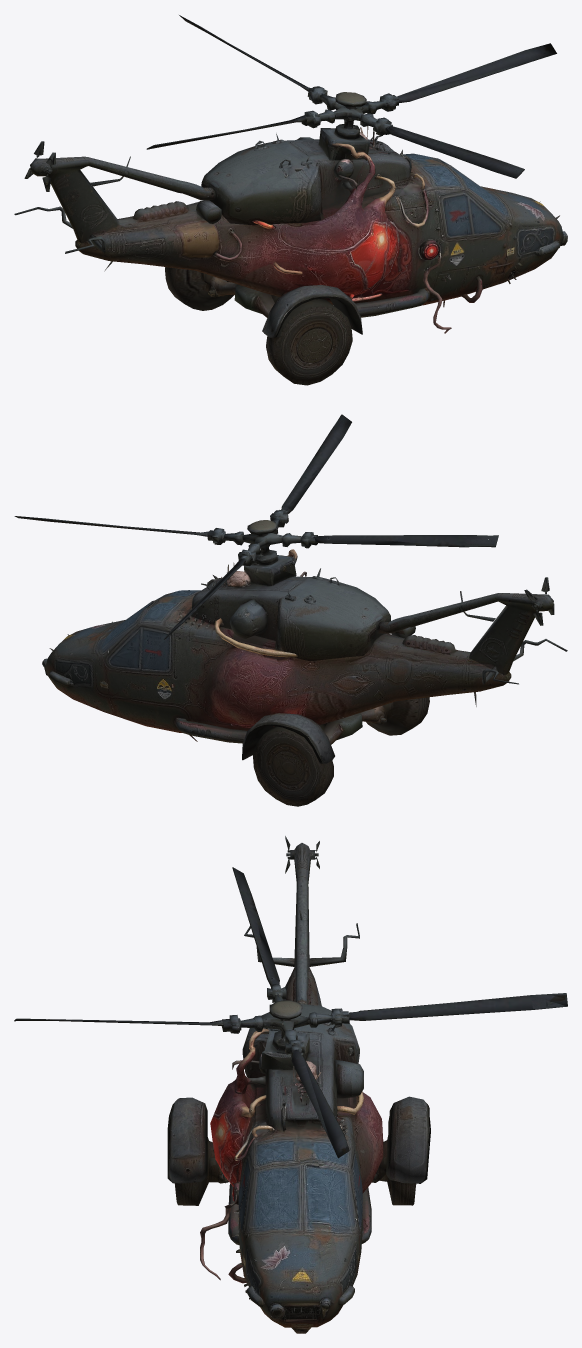
The model's file is helicopter-boss.glb.
The picture shows the model from 3 angles, top to bottom: view 1: azimuth 30°, elevation 25°; view 2: azimuth 150°, elevation 25°; view 3: azimuth 270°, elevation 25°; orthographic projection. The views are drawn at different scales.
Visible parts, largest first — view 1: Helicopter_body, Helicopter_weakpoint, Helicopter_rotor; view 2: Helicopter_body, Helicopter_rotor; view 3: Helicopter_body, Helicopter_rotor, Helicopter_weakpoint.
Part boxes in pixels (x1,y1,x2,y2): Helicopter_body: (14, 124, 566, 385); Helicopter_weakpoint: (256, 160, 406, 298); Helicopter_rotor: (146, 15, 556, 178); Helicopter_body: (42, 549, 567, 806); Helicopter_rotor: (14, 414, 498, 639); Helicopter_body: (167, 836, 430, 1333); Helicopter_rotor: (14, 867, 567, 1158); Helicopter_weakpoint: (210, 1063, 256, 1186).
Size of the model in its own units: 1 by 0.4482 by 0.8395.
Materials: 50 (50 with a texture image).
